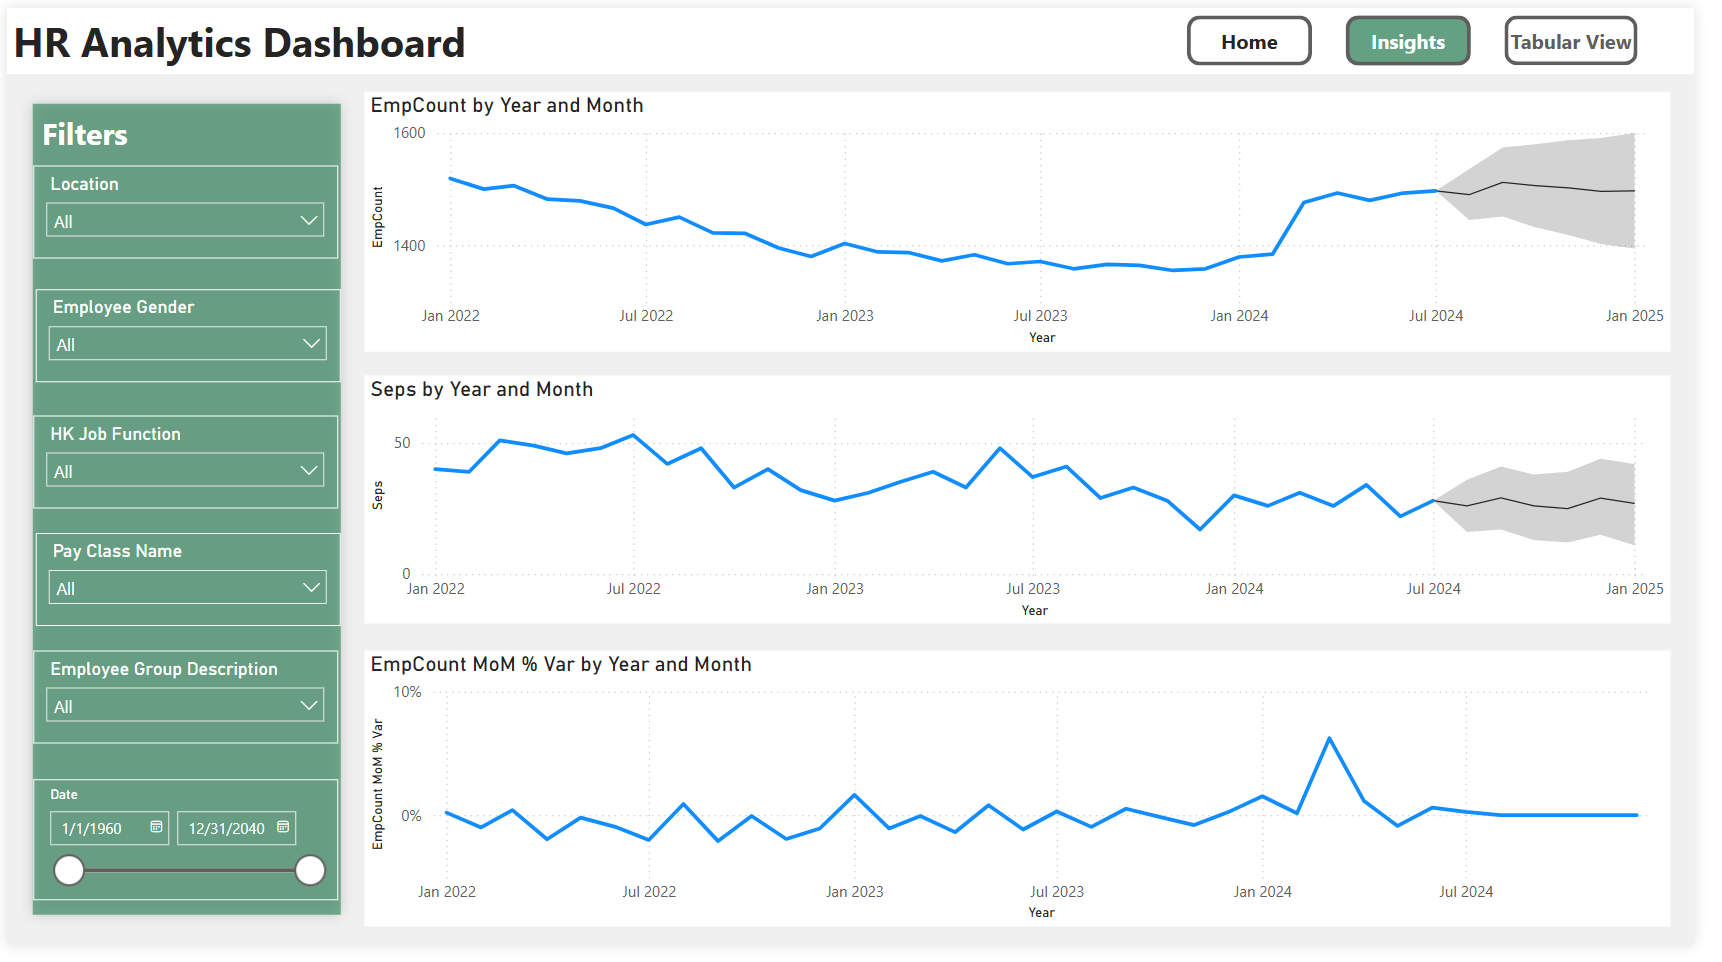

What the dashboard file says about the page in this screenshot:
{"tool":"powerbi","page":{"name":"Insights","canvas":[1350,750],"ordinal":1},"visuals":[{"type":"textbox","box":[0,0,1350,52.5],"z":0},{"type":"lineChart","fields":{"Category":["Date Dim.Date.Variation.Date Hierarchy.Year","Date Dim.Date.Variation.Date Hierarchy.Month"],"Y":["Employees.EmpCount"]},"box":[285.7,66.7,1045.2,208.3],"z":1000},{"type":"lineChart","fields":{"Y":["Employees.Seps"],"Category":["Employees.Termination Date.Variation.Date Hierarchy.Year","Employees.Termination Date.Variation.Date Hierarchy.Month"]},"box":[285.7,294,1045.2,198.8],"z":2000},{"type":"lineChart","fields":{"Y":["Employees.EmpCount MoM % Var"],"Category":["Date Dim.Date.Variation.Date Hierarchy.Year","Date Dim.Date.Variation.Date Hierarchy.Month"]},"box":[285.7,514.3,1045.2,220.2],"z":3000},{"type":"shape","box":[10.7,66.7,266.7,667.9],"z":4000},{"type":"slicer","fields":{"Values":["Employees.Location"]},"box":[21.4,126.2,244,75],"z":5000},{"type":"slicer","fields":{"Values":["Employees.Employee Gender"]},"box":[22.6,225,244,75],"z":6000},{"type":"slicer","fields":{"Values":["Employees.HK Job Function"]},"box":[21.4,326.2,244,75],"z":7000},{"type":"slicer","fields":{"Values":["Employees.Pay Class Name"]},"box":[22.6,420.2,244,75],"z":8000},{"type":"slicer","fields":{"Values":["Employees.Employee Group Description"]},"box":[21.4,514.3,244,75],"z":9000},{"type":"slicer","fields":{"Values":["Date Dim.Date"]},"box":[21.4,616.7,244,97.6],"z":10000},{"type":"textbox","box":[22.6,78.6,165.5,56],"z":11000},{"type":"actionButton","box":[944,6,100,40.5],"z":12000},{"type":"actionButton","box":[1070.8,6,100,40.5],"z":13000},{"type":"actionButton","box":[1197.6,6,107.1,40.5],"z":14000}]}

Visuals, with their boxes in screenshot pixels (x1, y1, x2, y2), scaled from the page's 1350x750 canvas onto the 1722x962 screenshot:
textbox: left=0, top=0, right=1721, bottom=67
lineChart - Date Dim.Date.Variation.Date Hierarchy.Year x Date Dim.Date.Variation.Date Hierarchy.Month: left=364, top=86, right=1698, bottom=353
lineChart - Employees.Seps x Employees.Termination Date.Variation.Date Hierarchy.Year: left=364, top=377, right=1698, bottom=632
lineChart - Employees.EmpCount MoM % Var x Date Dim.Date.Variation.Date Hierarchy.Year: left=364, top=660, right=1698, bottom=942
shape: left=14, top=86, right=354, bottom=942
slicer - Employees.Location: left=27, top=162, right=339, bottom=258
slicer - Employees.Employee Gender: left=29, top=289, right=340, bottom=385
slicer - Employees.HK Job Function: left=27, top=418, right=339, bottom=515
slicer - Employees.Pay Class Name: left=29, top=539, right=340, bottom=635
slicer - Employees.Employee Group Description: left=27, top=660, right=339, bottom=756
slicer - Date Dim.Date: left=27, top=791, right=339, bottom=916
textbox: left=29, top=101, right=240, bottom=173
actionButton: left=1204, top=8, right=1332, bottom=60
actionButton: left=1366, top=8, right=1493, bottom=60
actionButton: left=1528, top=8, right=1664, bottom=60
